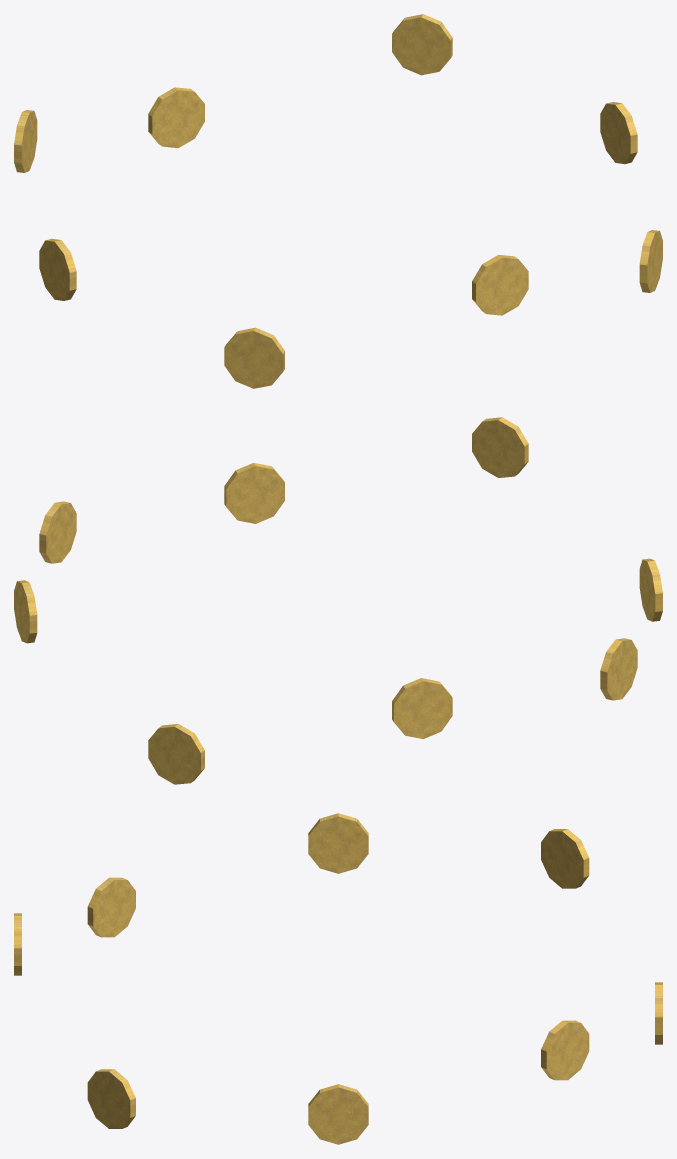
Rendered from rival_mira_coins.obj.
The picture shows the model from 3 angles, top to bottom: view 1: azimuth 30°, elevation 25°; view 2: azimuth 150°, elevation 25°; view 3: azimuth 270°, elevation 25°; orthographic projection.
Visible parts, largest first — view 1: rival_mira_coins; view 2: rival_mira_coins; view 3: rival_mira_coins.
Boxes of the visible parts, x1,y1,x2,y2 form: rival_mira_coins: (14,14,662,388); rival_mira_coins: (14,417,662,784); rival_mira_coins: (14,813,662,1144).
Bounding box in the file's own units: 1.28 × 0.275 × 1.28.
